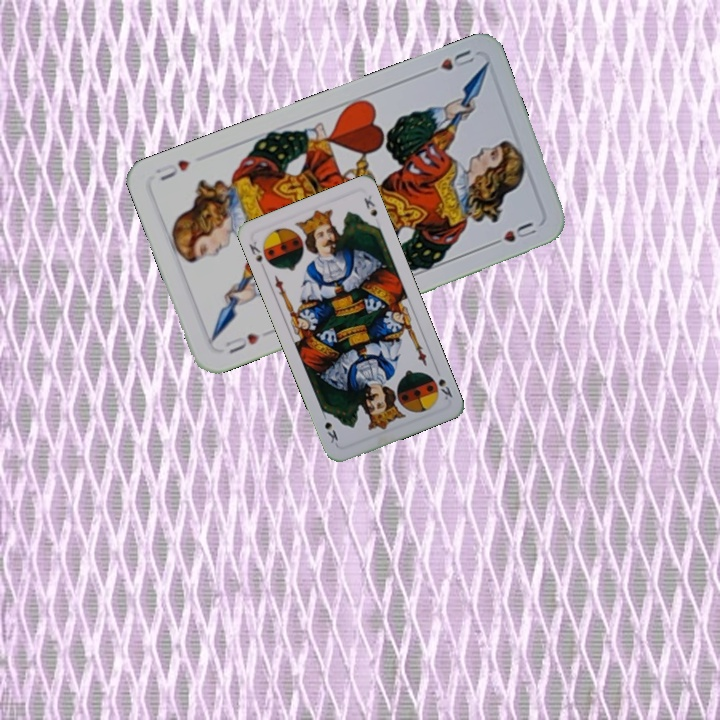HU: (421, 45, 480, 78), (221, 329, 263, 357)
SK: (432, 364, 455, 403), (245, 237, 265, 266)
